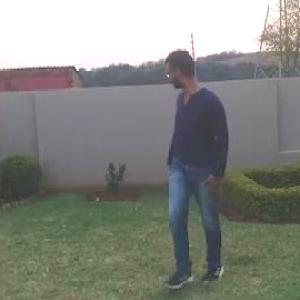follow: (160, 46, 230, 255)
